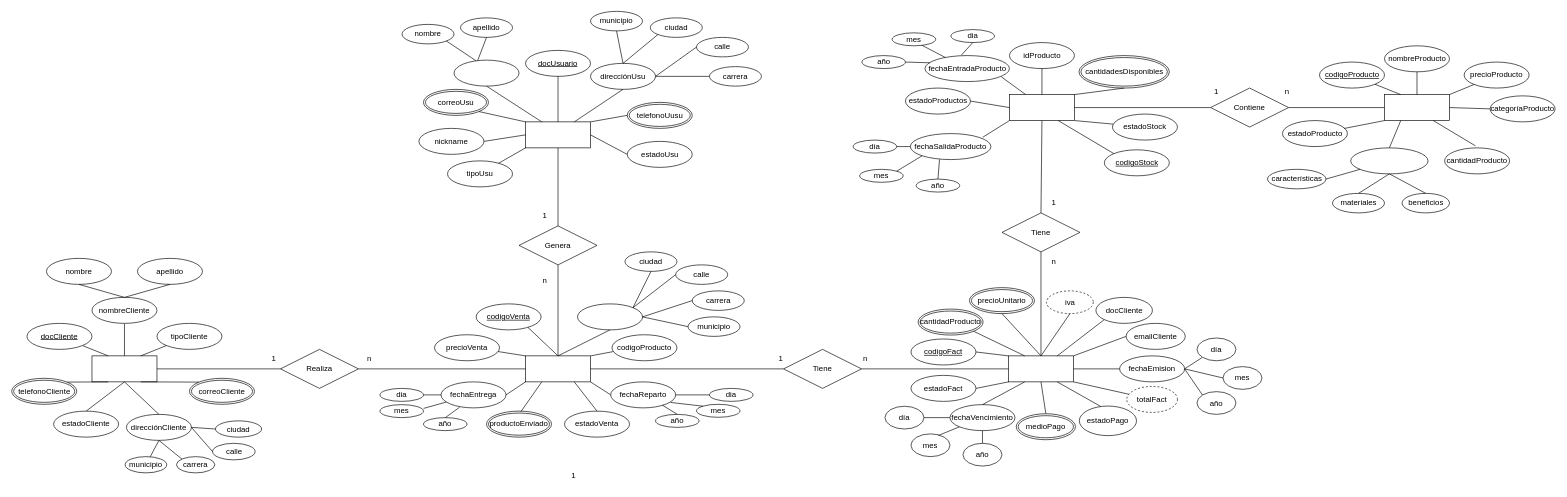
The diagram is 1567 pixels wide and 497 high, and some of its shapes have lost their labels. Each missing label, with the centre of its shape:
"Cliente" goes at point (124, 368).
"descripciónProducto" goes at point (1389, 160).
"direccionEnvio" goes at point (610, 316).
"Factura" goes at point (1040, 368).
"nombreUsu" goes at point (486, 72).
"Producto" goes at point (1417, 107).
"Stock" goes at point (1041, 107).
"Usuario" goes at point (558, 134).
"Venta" goes at point (558, 368).
